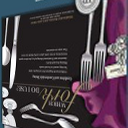fork: (75, 1, 110, 91)
